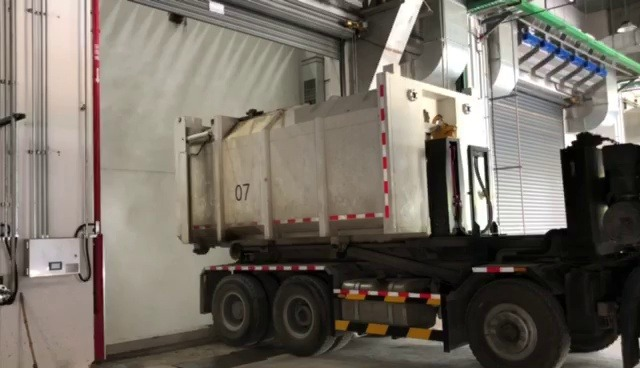truck: (166, 59, 640, 368)
